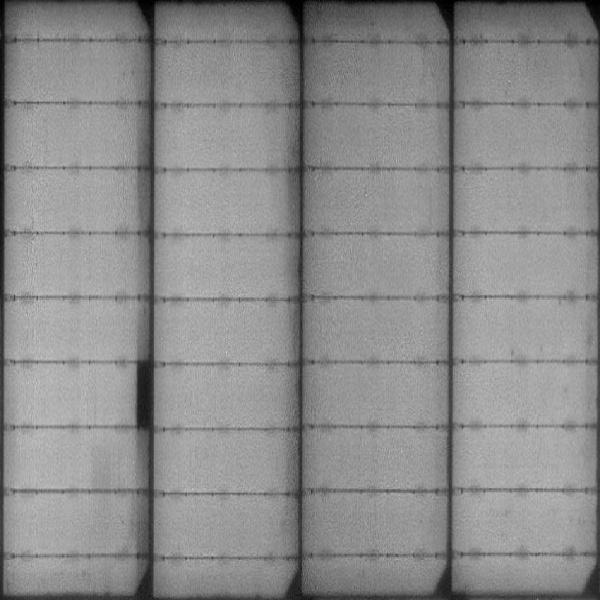black_border: (133, 355, 152, 429)
